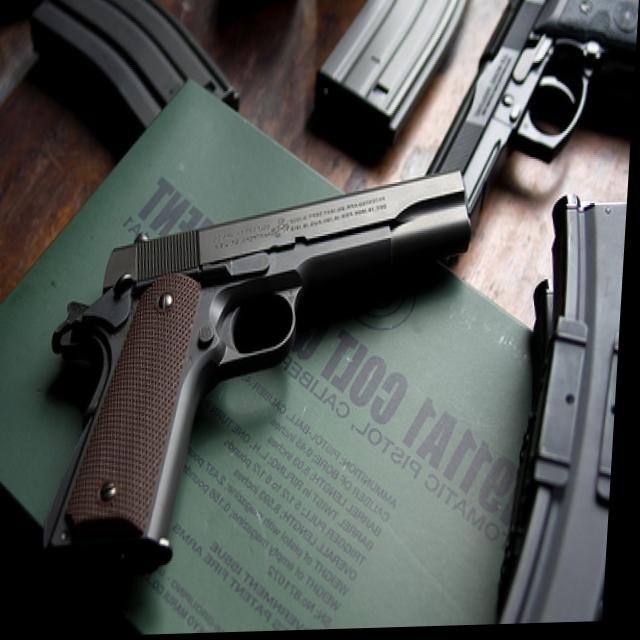handgun: (47, 165, 479, 573), (416, 0, 640, 249)
